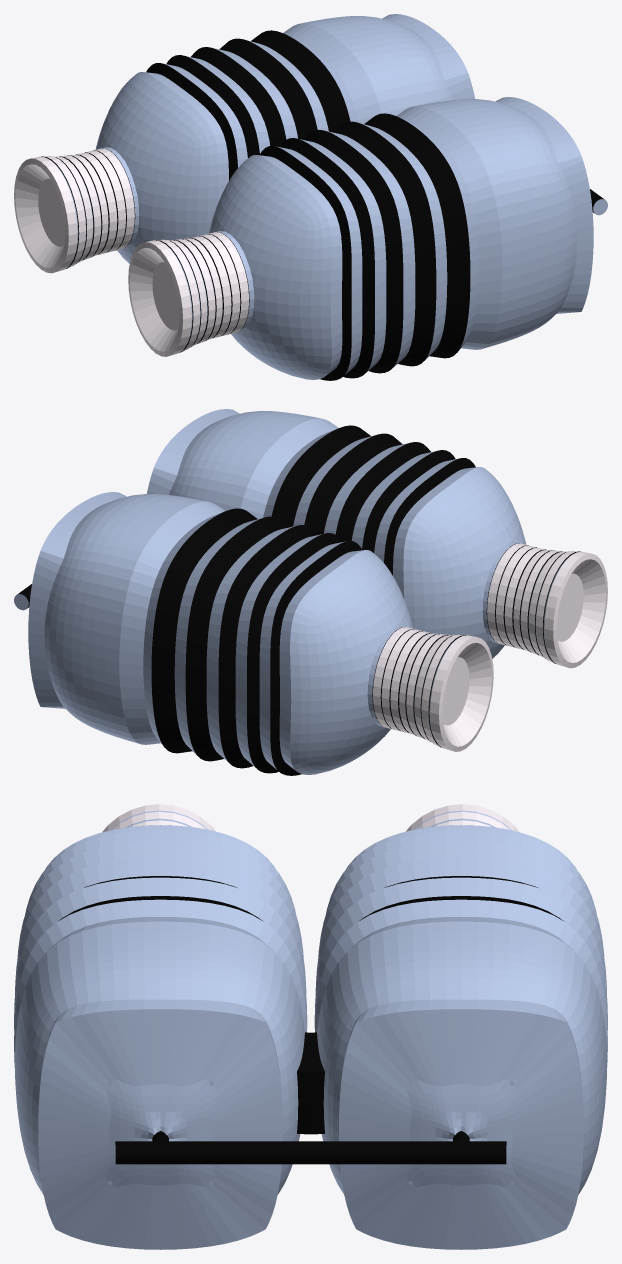
The model's file is Engine.fbx.
The picture shows the model from 3 angles, top to bottom: view 1: azimuth 30°, elevation 25°; view 2: azimuth 150°, elevation 25°; view 3: azimuth 270°, elevation 25°; orthographic projection. The views are drawn at different scales.
Parts seen in each view (by area): view 1: Engine; view 2: Engine; view 3: Engine.
Part boxes in pixels (box(x1,y1,x2,y2)): Engine: box(14, 14, 607, 380); Engine: box(14, 409, 607, 775); Engine: box(14, 804, 607, 1249).
Bounding box in the file's own units: 99.55 × 53.31 × 112.
